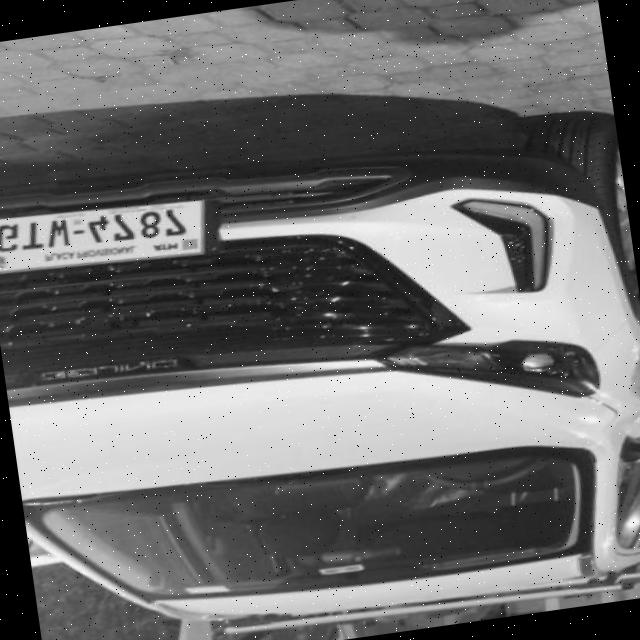Placa: (0, 199, 204, 271)
